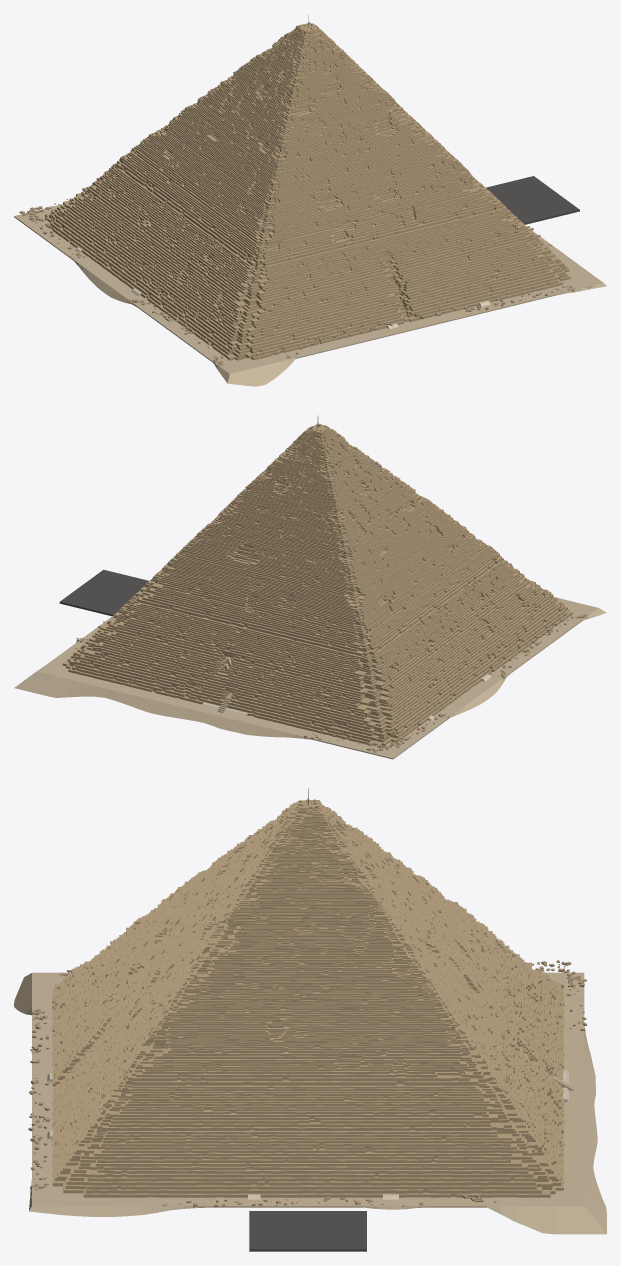
Rendered from pyramid-of-khufu.glb.
3 renders of one model, top to bottom at view 1: azimuth 30°, elevation 25°; view 2: azimuth 150°, elevation 25°; view 3: azimuth 270°, elevation 25°, orthographic. The views are drawn at different scales.
Visible parts, largest first — view 1: pyramid-of-khufu; view 2: pyramid-of-khufu; view 3: pyramid-of-khufu.
Boxes of the visible parts, x1,y1,x2,y2 form: pyramid-of-khufu: [14, 14, 606, 386]; pyramid-of-khufu: [14, 415, 606, 759]; pyramid-of-khufu: [14, 788, 606, 1251].
Size of the model in its own units: 287 by 156 by 262.
